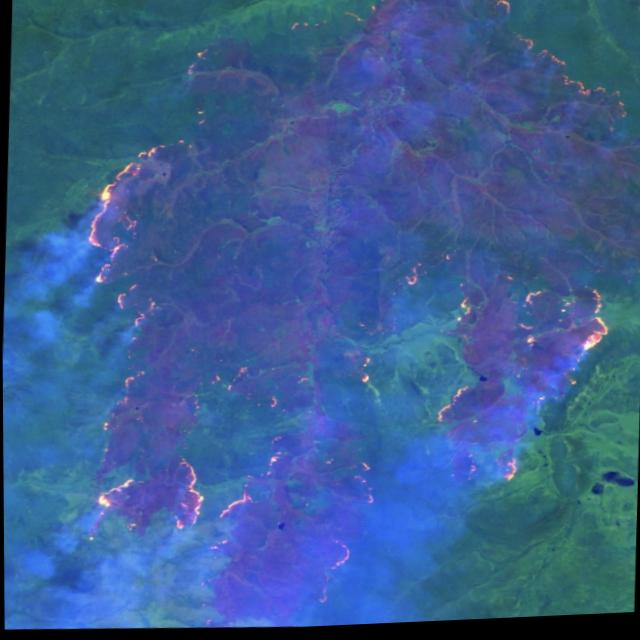fire: (1, 115, 623, 640)
